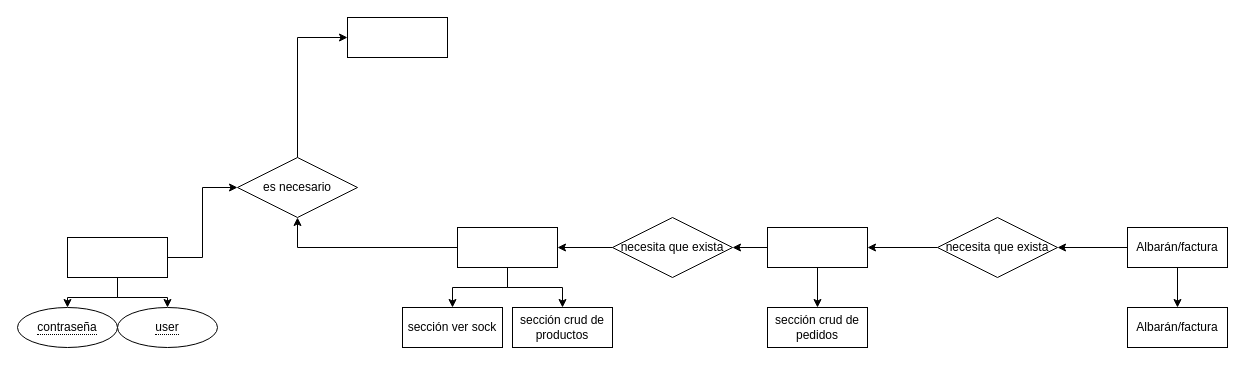
This 1245x365 diagram has some shape labels left out. The shapes that lost their labels are listed below. From the top down, each one's centre as x and y in pixels, then its label:
At point 397,37: "conexión base de datos".
At point 117,257: "sección log in".
At point 507,247: "sección inventario".
At point 817,247: "pedidos".
